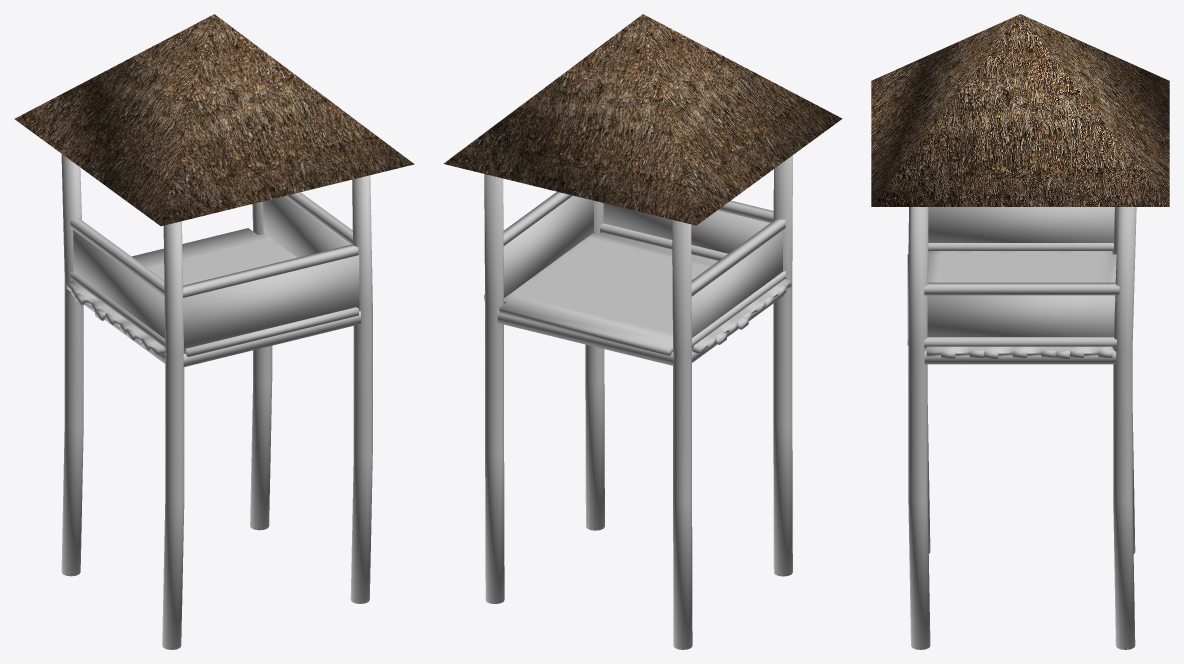
The model's file is tower5.fbx.
3 renders of one model, left to right at view 1: azimuth 30°, elevation 25°; view 2: azimuth 150°, elevation 25°; view 3: azimuth 270°, elevation 25°, orthographic. The views are drawn at different scales.
Parts seen in each view (by area): view 1: roof1, wood1, wood2, wood4; view 2: roof1, wood1, wood4, wood2; view 3: roof1, wood1, wood2, wood4.
Boxes of the visible parts, bbox=[...] form: roof1: bbox=[14, 14, 414, 226]; wood1: bbox=[61, 154, 372, 649]; wood2: bbox=[73, 196, 359, 353]; wood4: bbox=[66, 228, 358, 356]; roof1: bbox=[443, 14, 842, 225]; wood1: bbox=[484, 155, 792, 649]; wood4: bbox=[484, 232, 791, 355]; wood2: bbox=[503, 195, 782, 337]; roof1: bbox=[871, 14, 1169, 206]; wood1: bbox=[908, 207, 1136, 649]; wood2: bbox=[927, 207, 1115, 336]; wood4: bbox=[907, 251, 1116, 358].
Bounding box in the file's own units: 30.7 × 66.26 × 30.7.
